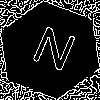N: (25, 25, 80, 81)
